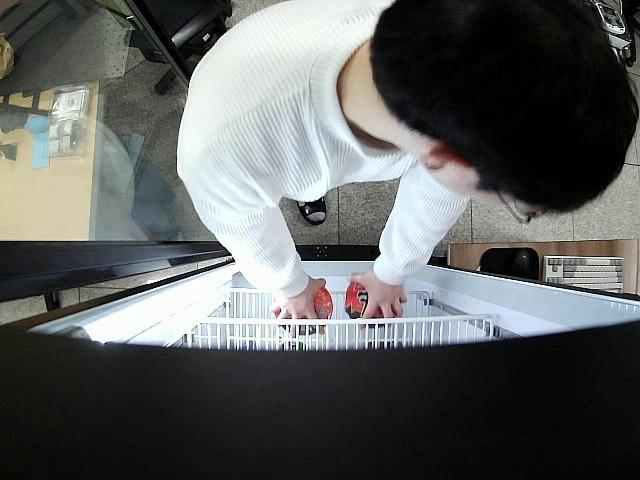01_ShinRamen_L: (275, 284, 334, 336), (348, 280, 398, 325)
